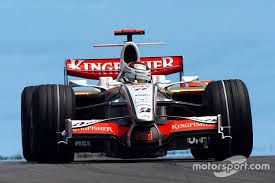f1_car: (15, 23, 258, 172)
